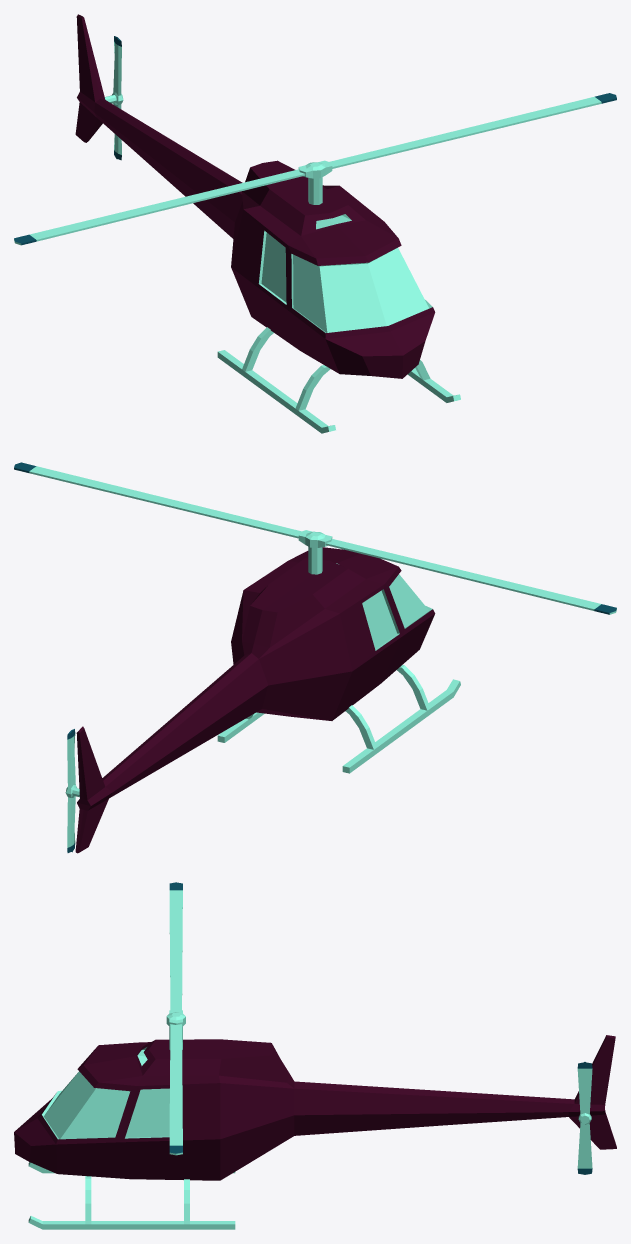
The model's file is helicopter.glb.
3 views of the same model, one above another, from view 1: azimuth 30°, elevation 25°; view 2: azimuth 150°, elevation 25°; view 3: azimuth 270°, elevation 25° (orthographic). The views are drawn at different scales.
Parts seen in each view (by area): view 1: unnamed (×3); view 2: unnamed (×3); view 3: unnamed (×3).
Part boxes in pixels (x1,y1,x2,y2): unnamed (×3): (14,14,616,433); unnamed (×3): (14,462,616,853); unnamed (×3): (14,882,616,1229).
Size of the model in its own units: 11.49 by 3.66 by 10.79.
1 material, 1 textured.
